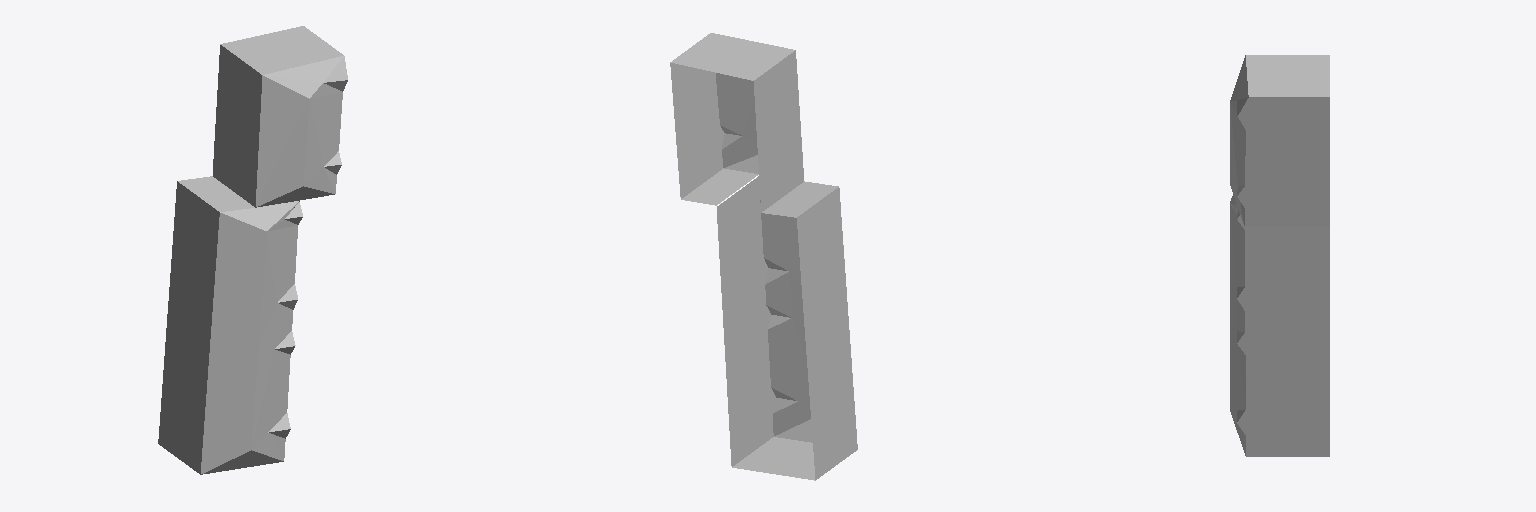
Rendered from talo_Build0000015.obj.
3 views of the same model, side by side, from view 1: azimuth 30°, elevation 25°; view 2: azimuth 150°, elevation 25°; view 3: azimuth 270°, elevation 25° (orthographic).
Size of the model in its own units: 20.87 by 53.76 by 12.49.